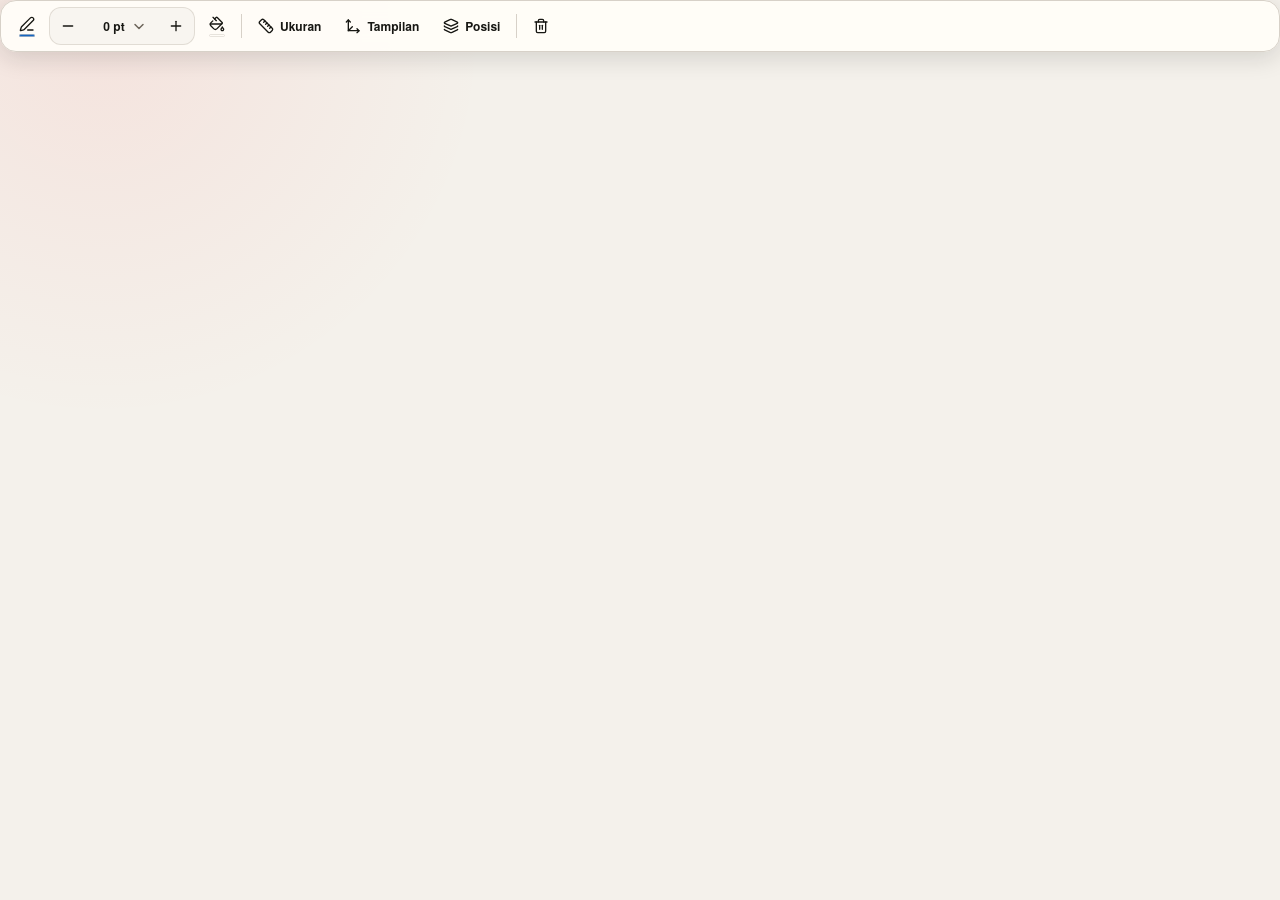
Test: PropertiesBar › warns about a shape that would be invisible
Click the button named "Warna isi" at (217, 26), box [199,8,235,44]
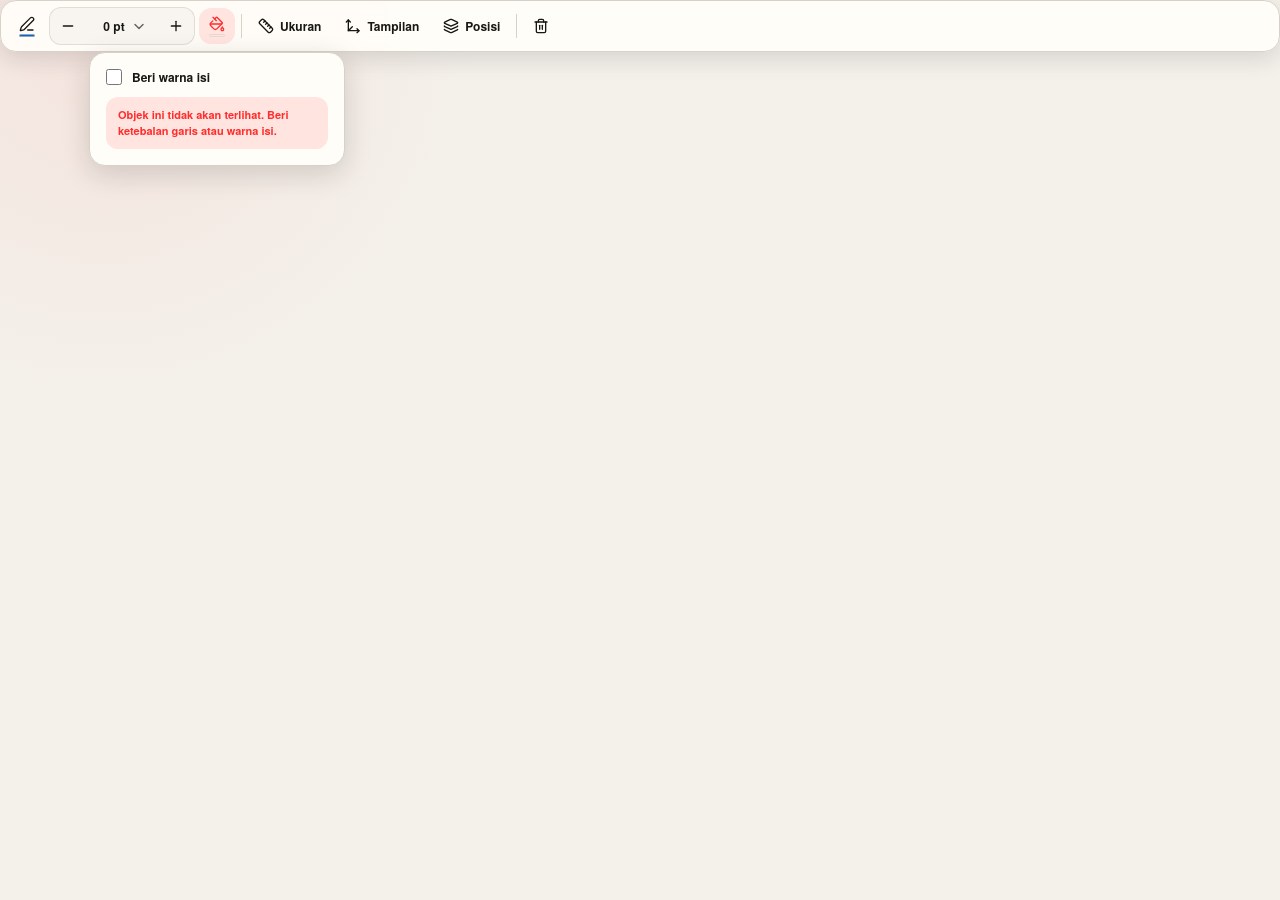
Expected: the message shows "tidak akan terlihat", [118,107,288,138]
